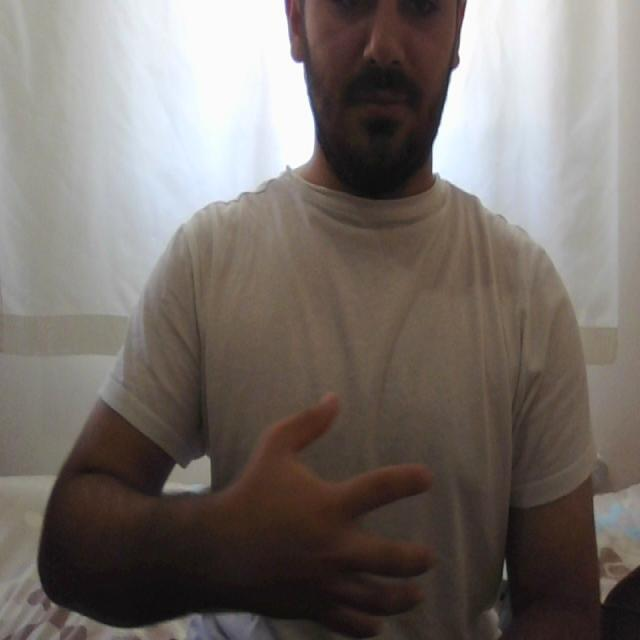Anne: (227, 391, 451, 638)
